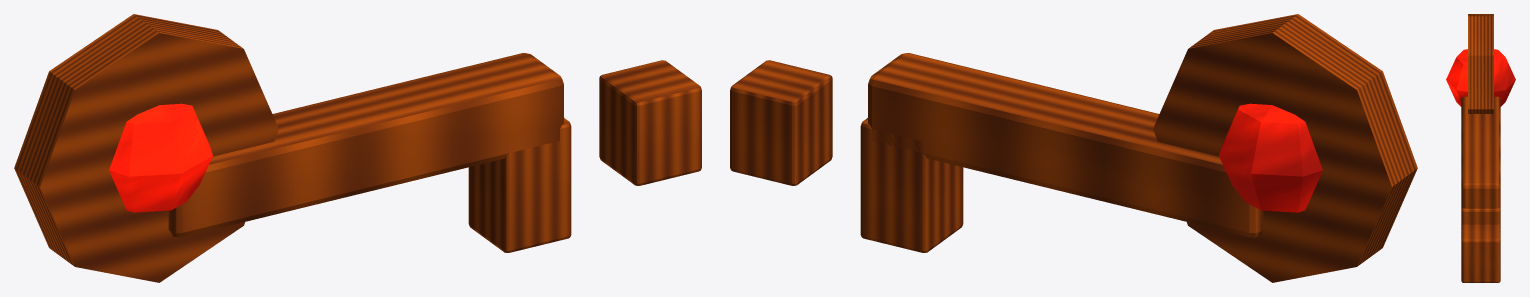
Rendered from SM_FC_CinderKey.fbx.
The picture shows the model from 3 angles, left to right: view 1: azimuth 30°, elevation 25°; view 2: azimuth 150°, elevation 25°; view 3: azimuth 270°, elevation 25°; orthographic projection. The views are drawn at different scales.
Visible parts, largest first — view 1: SM_FC_CinderKey; view 2: SM_FC_CinderKey; view 3: SM_FC_CinderKey.
Boxes of the visible parts, x1,y1,x2,y2 form: SM_FC_CinderKey: (14,14,701,282); SM_FC_CinderKey: (730,14,1417,282); SM_FC_CinderKey: (1446,14,1515,282).
Size of what is drawn, in the model's own units: 1.76 by 0.77 by 0.32.
